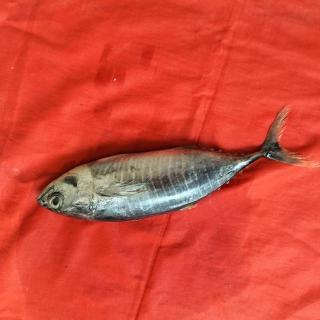Ikan: (33, 101, 317, 233)
